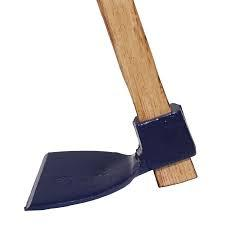HOUE: (20, 0, 225, 210)
